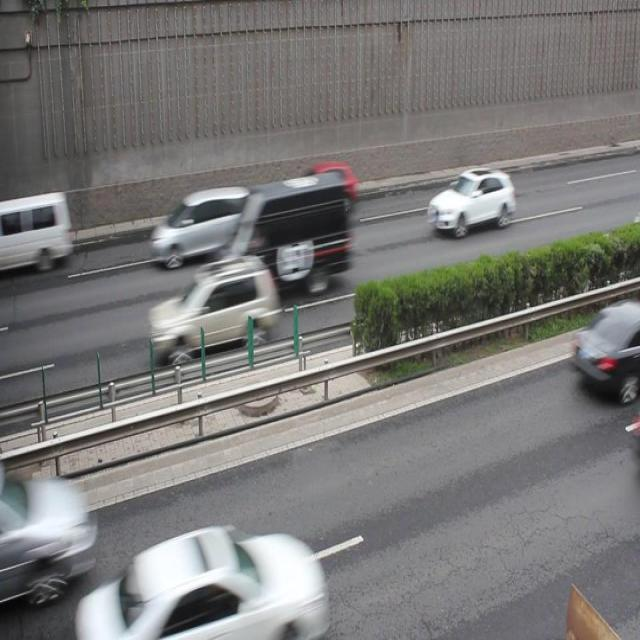car: (72, 525, 326, 640), (221, 174, 348, 288), (148, 257, 278, 355), (568, 302, 640, 396), (426, 167, 513, 235), (294, 162, 359, 214)
truck: (1, 469, 91, 604), (150, 187, 255, 262), (1, 193, 71, 274)
